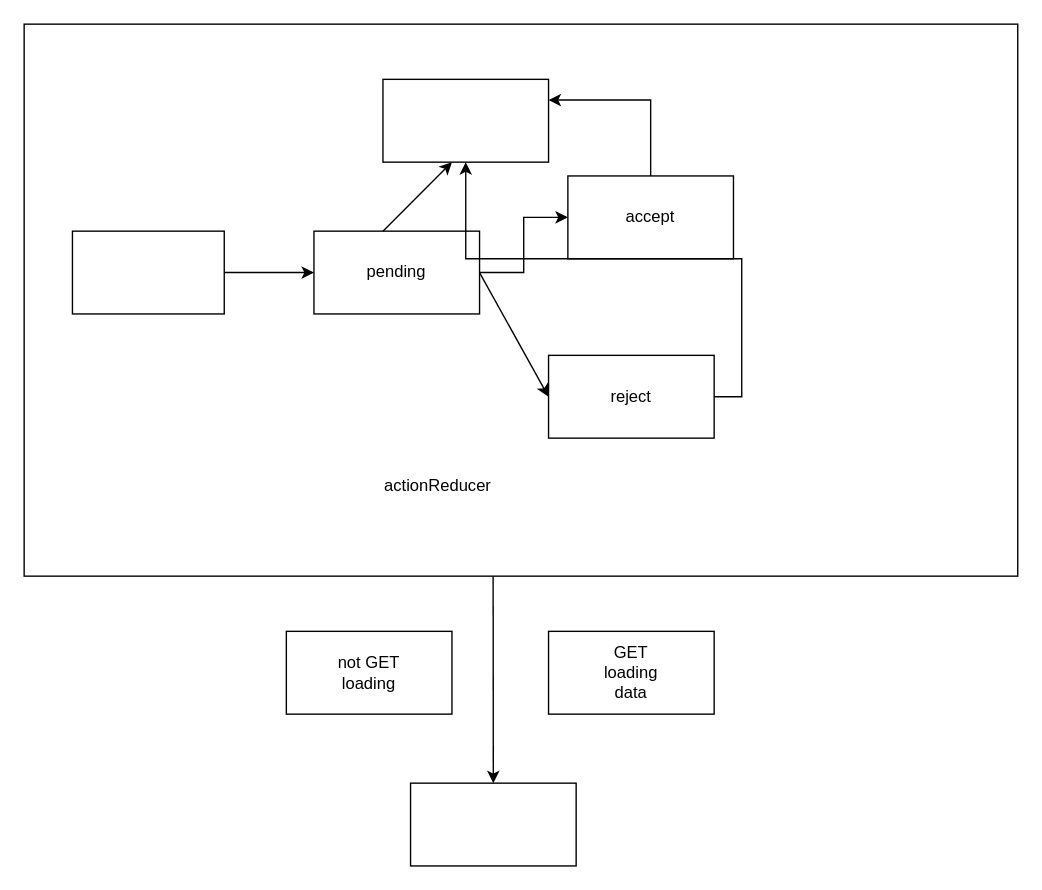
This 1042x890 diagram has some shape labels left out. The centre of each missing label's shape, as x and y in pixels:
"components" belongs at pixel 492 824.
"redux" belongs at pixel 465 120.
"request" belongs at pixel 147 272.
